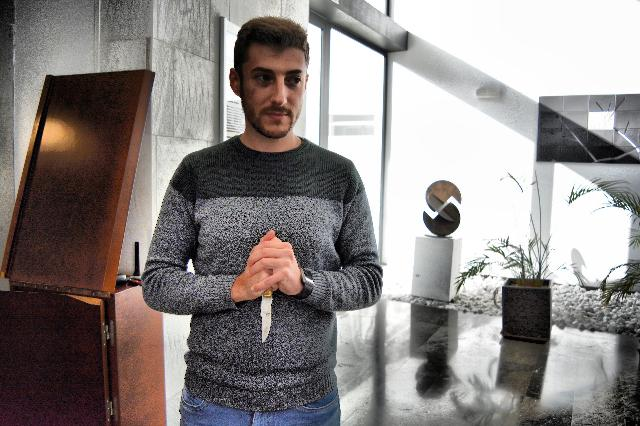knife: (256, 284, 276, 346)
